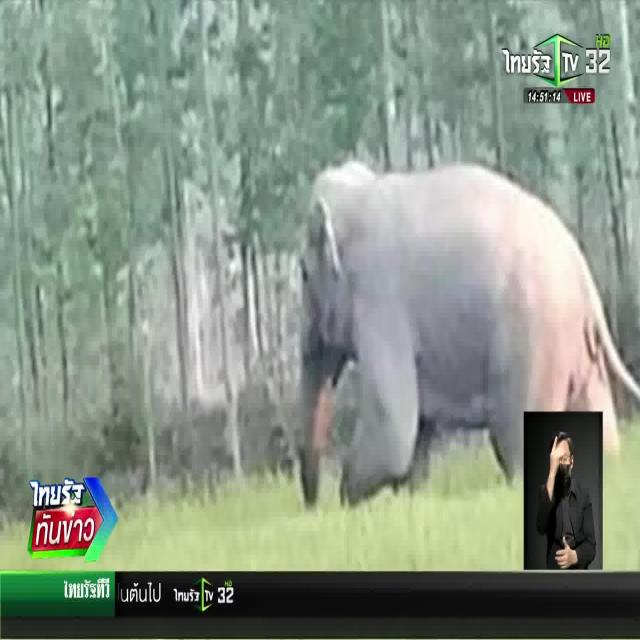Elephant: (292, 161, 576, 405)
